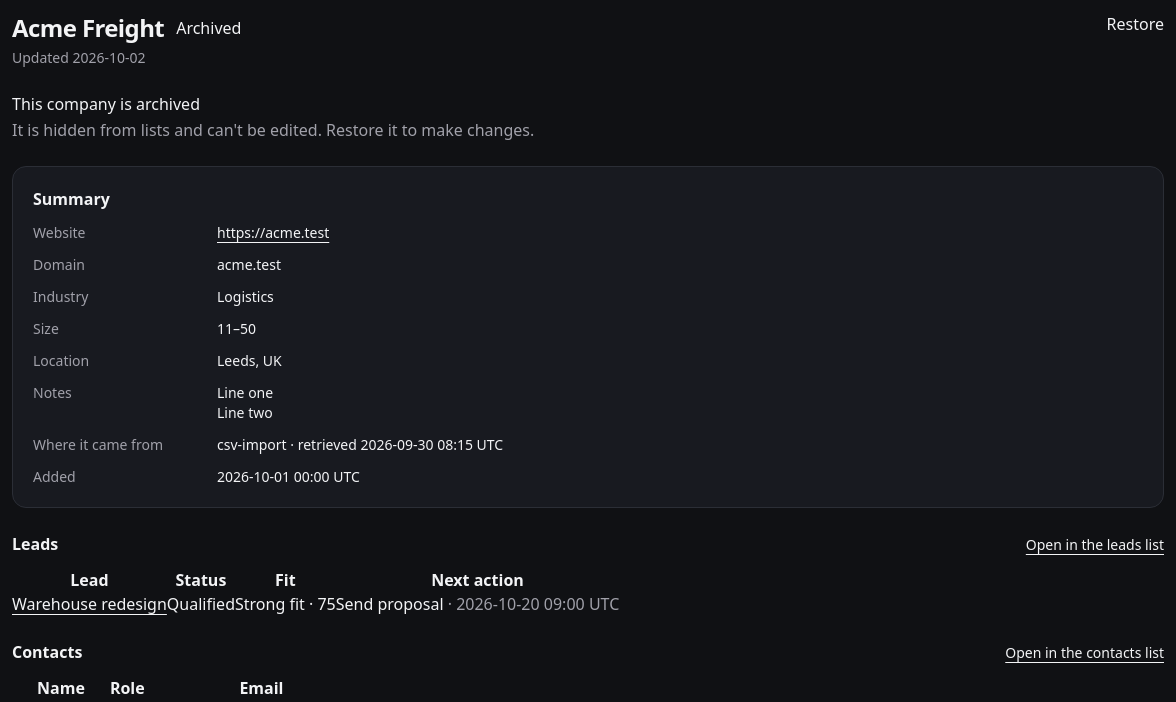
CompanyDetail › shows a failed archive as an error
The width and height of the screenshot is (1176, 702).
Click the button "Restore" at [1135, 24], box [1107,12,1164,36]
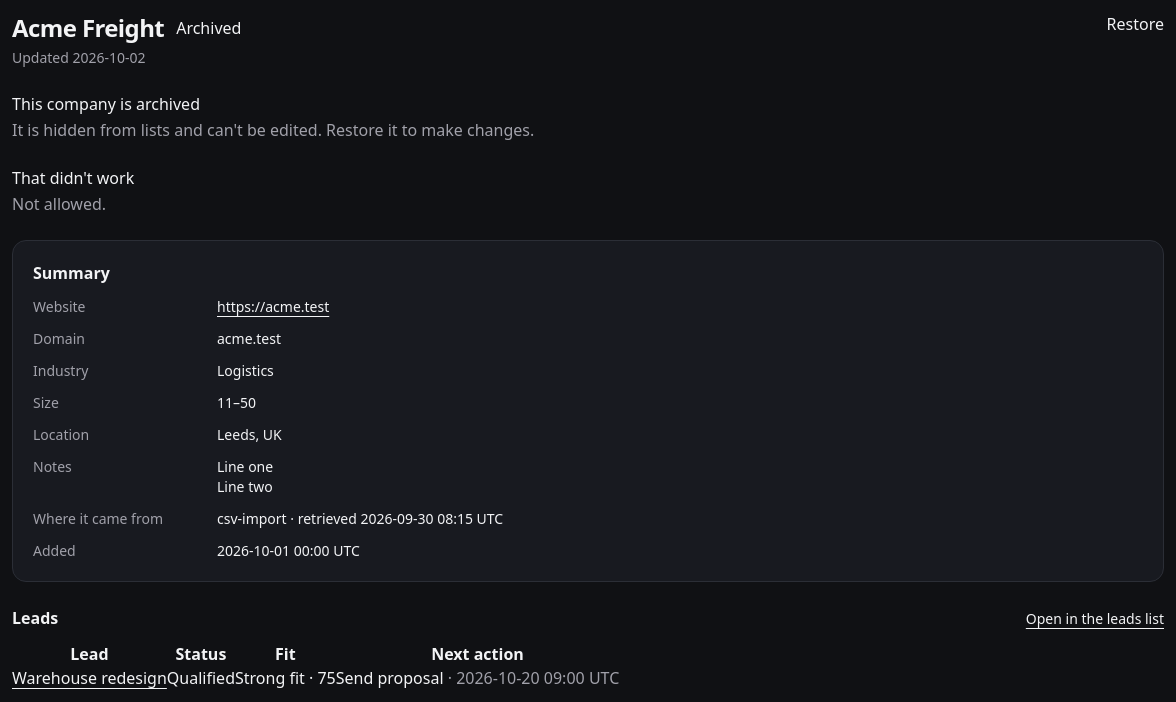
expect the text "Not allowed." is shown: met, box [12,193,106,215]
